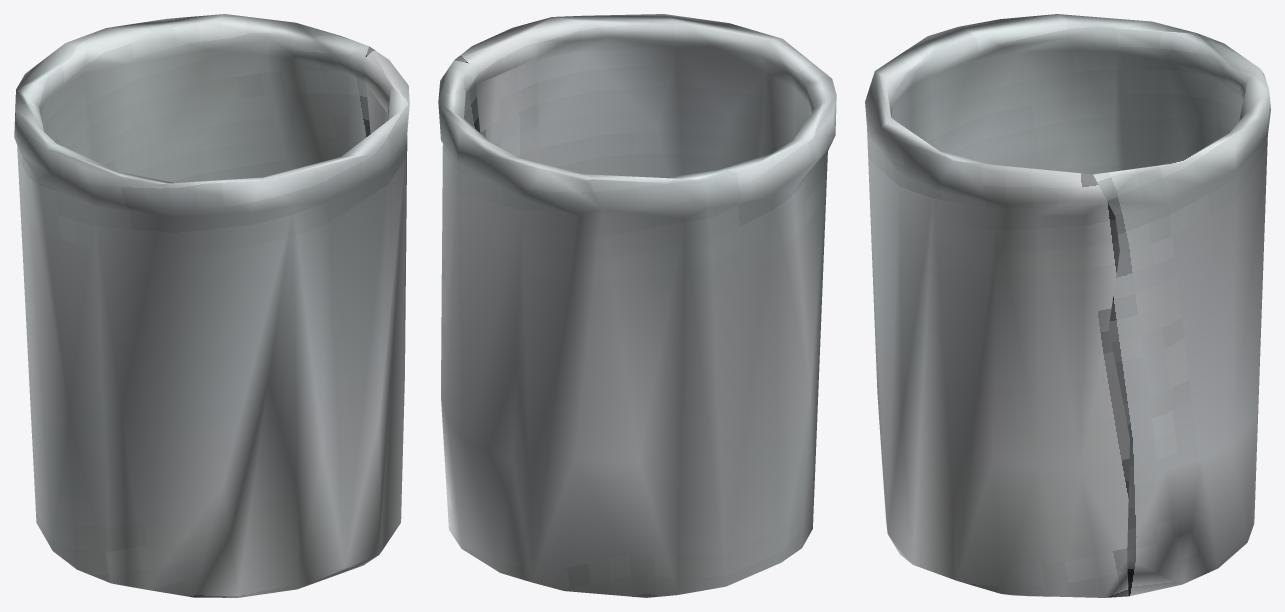
The model's file is BIA_Cordon_Bleu_White_Porcelain_Utensil_Holder_900028-low.glb.
The picture shows the model from 3 angles, left to right: view 1: azimuth 30°, elevation 25°; view 2: azimuth 150°, elevation 25°; view 3: azimuth 270°, elevation 25°; orthographic projection.
Visible parts, largest first — view 1: BIA_Cordon_Bleu_White_Porcelain_Utensil_Holder_900028; view 2: BIA_Cordon_Bleu_White_Porcelain_Utensil_Holder_900028; view 3: BIA_Cordon_Bleu_White_Porcelain_Utensil_Holder_900028.
Part boxes in pixels (x1,y1,x2,y2): BIA_Cordon_Bleu_White_Porcelain_Utensil_Holder_900028: [14, 14, 409, 597]; BIA_Cordon_Bleu_White_Porcelain_Utensil_Holder_900028: [438, 14, 836, 597]; BIA_Cordon_Bleu_White_Porcelain_Utensil_Holder_900028: [865, 14, 1270, 597].
Size of the model in its own units: 0.1471 by 0.1748 by 0.1483.
Materials: 1 (1 with a texture image).
